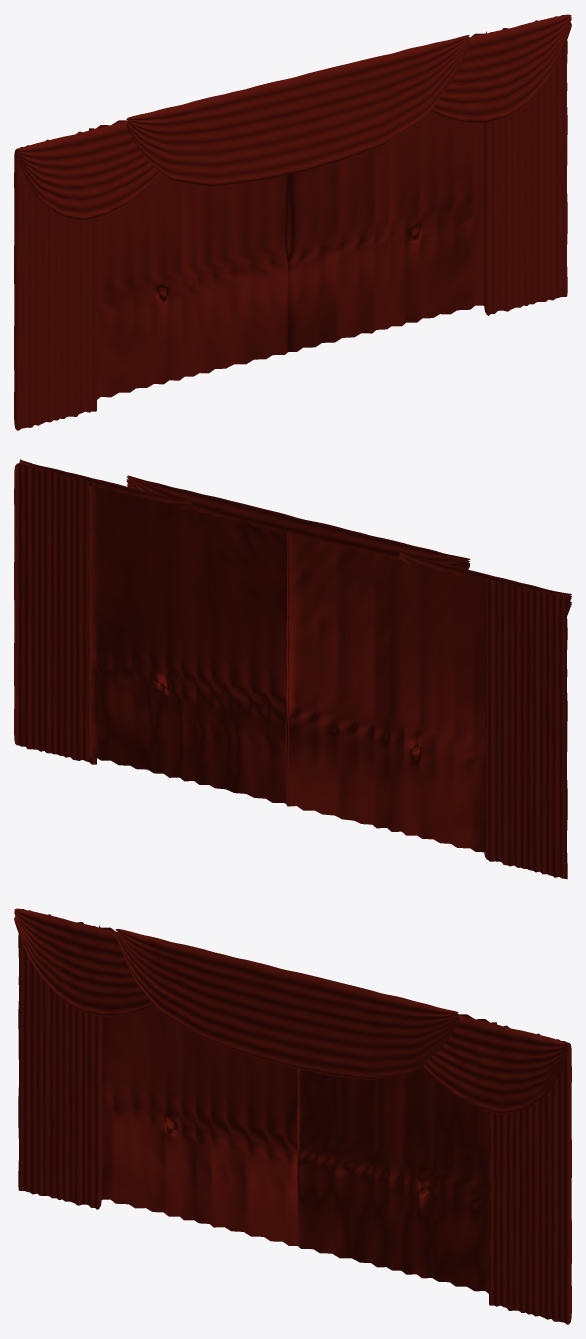
Rendered from rose_curtains_webar.glb.
3 views of the same model, one above another, from view 1: azimuth 30°, elevation 25°; view 2: azimuth 150°, elevation 25°; view 3: azimuth 330°, elevation 25° (orthographic).
Parts seen in each view (by area): view 1: right_moving.001, left_moving.001, side.001, top.001, topside.001; view 2: left_moving.001, right_moving.001, side.001, top.001, topside.001; view 3: left_moving.001, right_moving.001, side.001, top.001, topside.001.
Boxes of the visible parts, box(x1,y1,x2,y2) form: right_moving.001: box(288, 31, 486, 351); left_moving.001: box(89, 120, 288, 399); side.001: box(14, 15, 567, 430); top.001: box(126, 35, 469, 186); topside.001: box(19, 14, 571, 219); left_moving.001: box(286, 534, 486, 854); right_moving.001: box(88, 485, 289, 806); side.001: box(14, 463, 567, 879); top.001: box(126, 475, 470, 569); topside.001: box(19, 459, 571, 615); left_moving.001: box(99, 925, 297, 1245); right_moving.001: box(297, 1014, 496, 1293); side.001: box(18, 909, 571, 1324); top.001: box(115, 929, 459, 1079); topside.001: box(14, 908, 566, 1113).
Bounding box in the file's own units: 2.85 × 1.44 × 0.1061.
